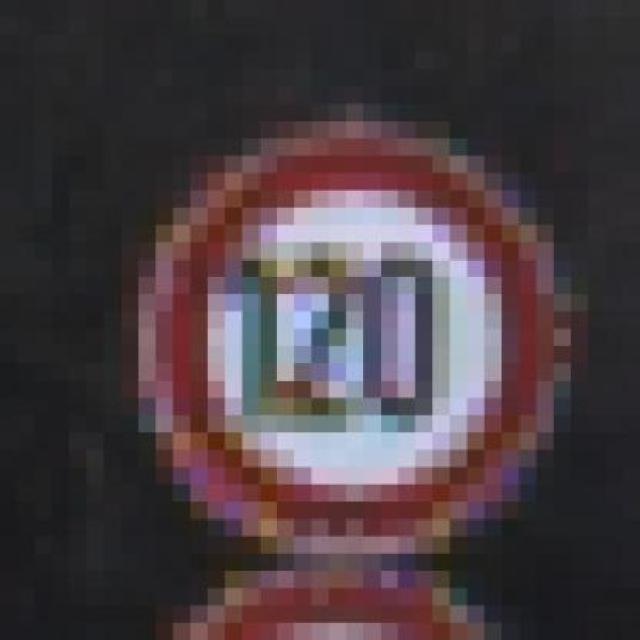forb_speed_over_120: (151, 137, 551, 549)
